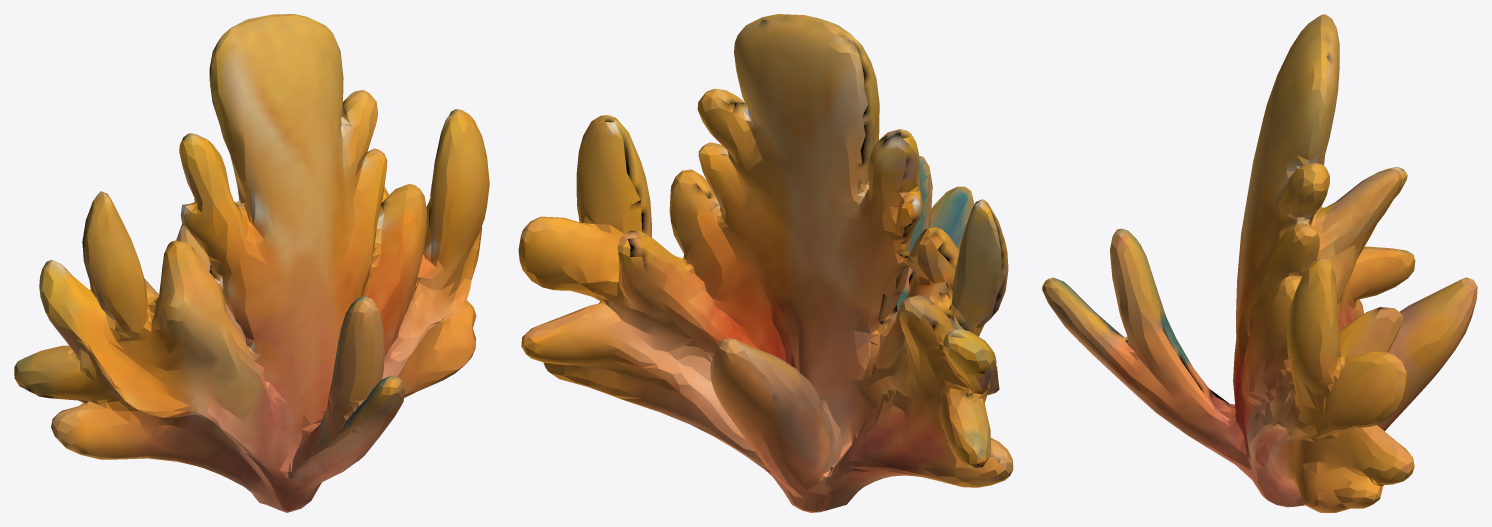
The model's file is Plant7.glb.
3 renders of one model, left to right at view 1: azimuth 30°, elevation 25°; view 2: azimuth 150°, elevation 25°; view 3: azimuth 270°, elevation 25°, orthographic. The views are drawn at different scales.
Parts seen in each view (by area): view 1: model.009_LOD0; view 2: model.009_LOD0; view 3: model.009_LOD0.
Boxes of the visible parts, x1,y1,x2,y2 form: model.009_LOD0: (14, 14, 489, 512); model.009_LOD0: (518, 14, 1013, 512); model.009_LOD0: (1042, 14, 1477, 512).
Size of what is drawn, in the model's own units: 0.395 by 0.4026 by 0.3345.
1 material, 1 textured.
